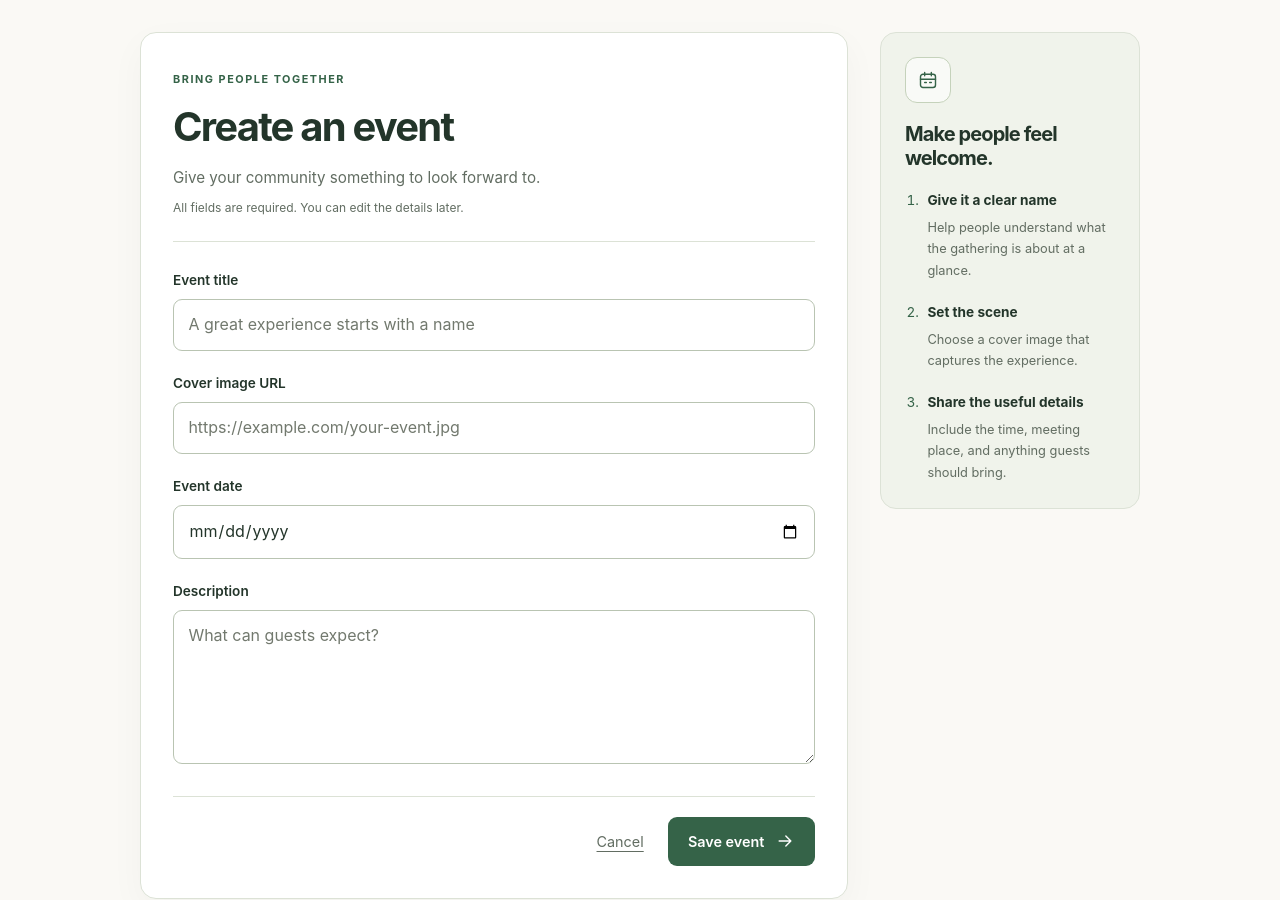
Test case: shows server validation errors and keeps entered values
Step 1. Type "My meetup" into the field labelled "Event title" → [494, 325], box [173,299,815,351]
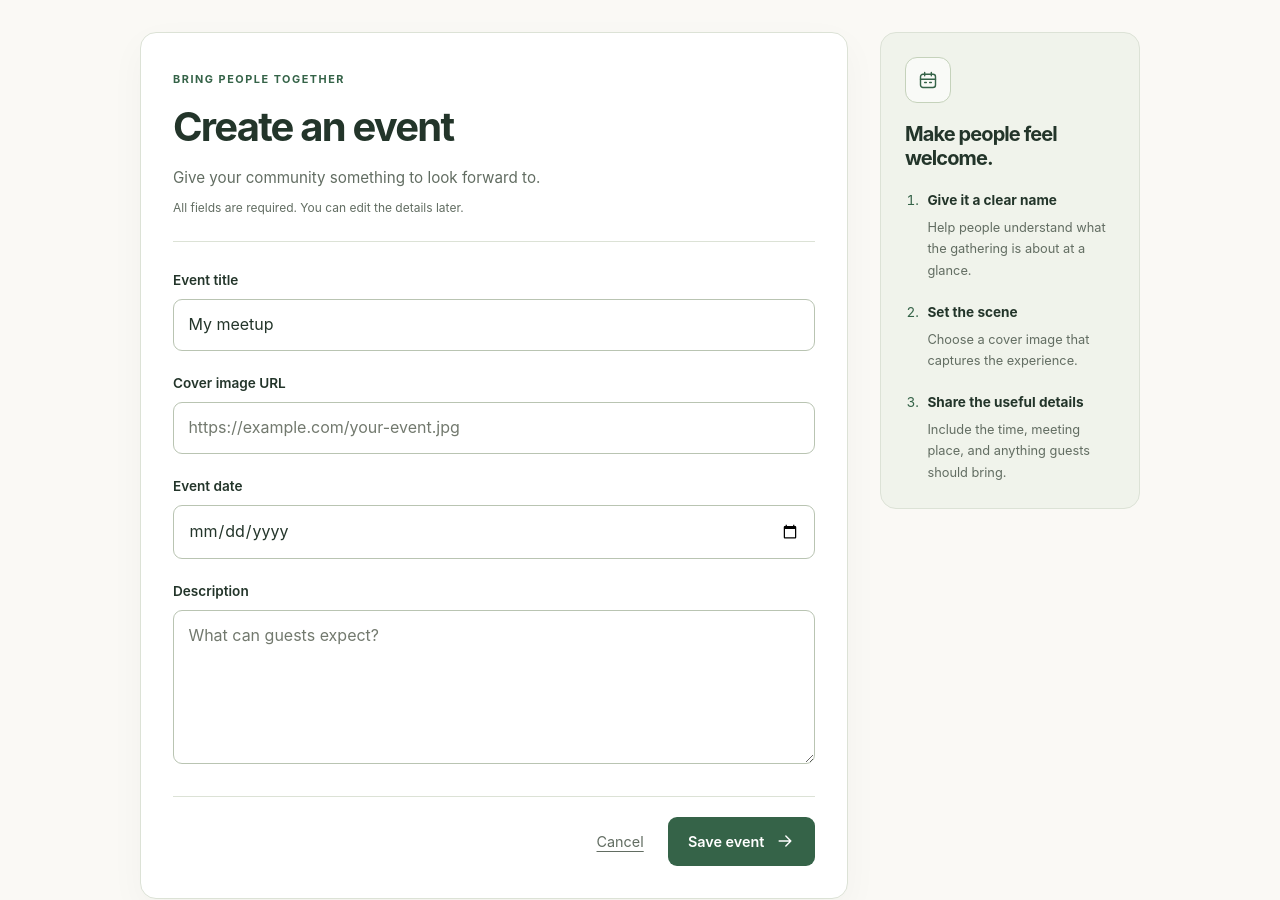
Step 2. Submit the form named "Save event", box [140,32,848,899]
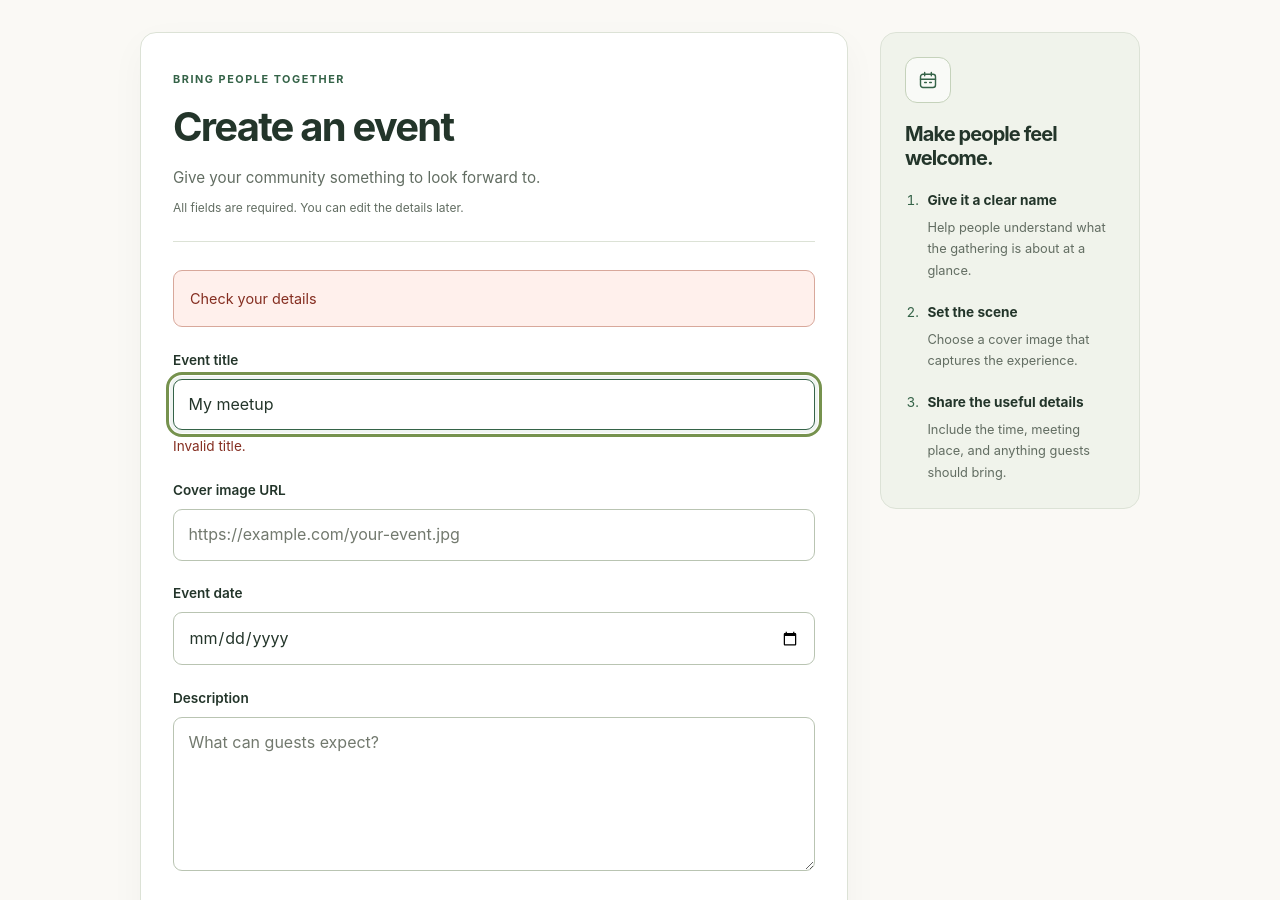
Expected: the message reads "Check your details", [190,290,317,307]
